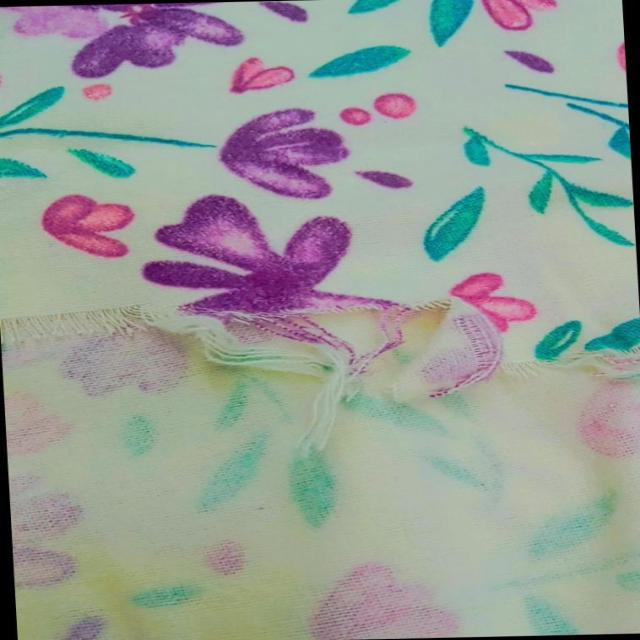cut: (24, 284, 640, 418)
